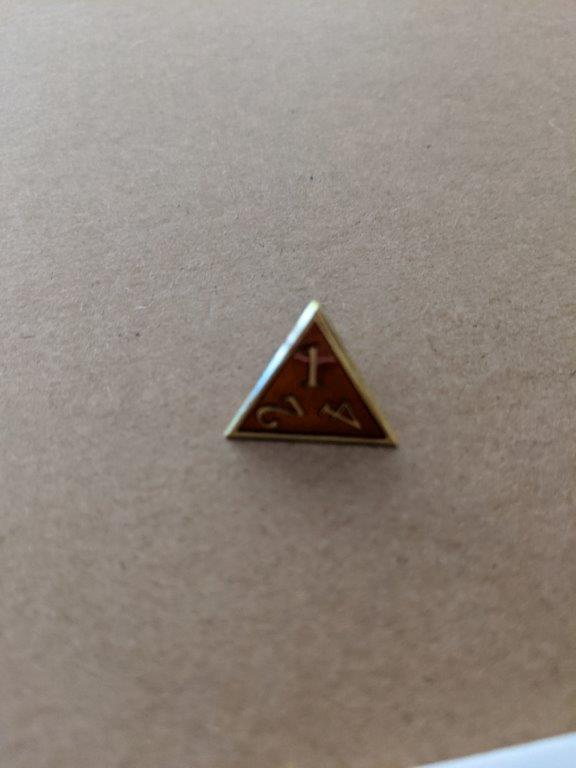d4-1: (219, 293, 406, 459)
